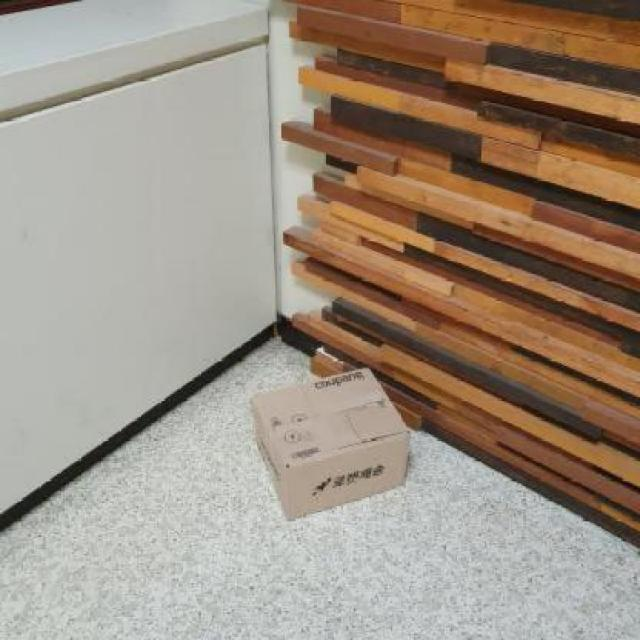box: (227, 361, 428, 525)
